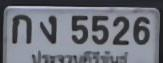2: (112, 15, 128, 44)
5: (91, 14, 108, 44), (70, 14, 87, 43)
6: (132, 16, 149, 44)
A01: (11, 14, 31, 42)
A07: (39, 14, 56, 43)
PKN: (28, 49, 130, 63)
